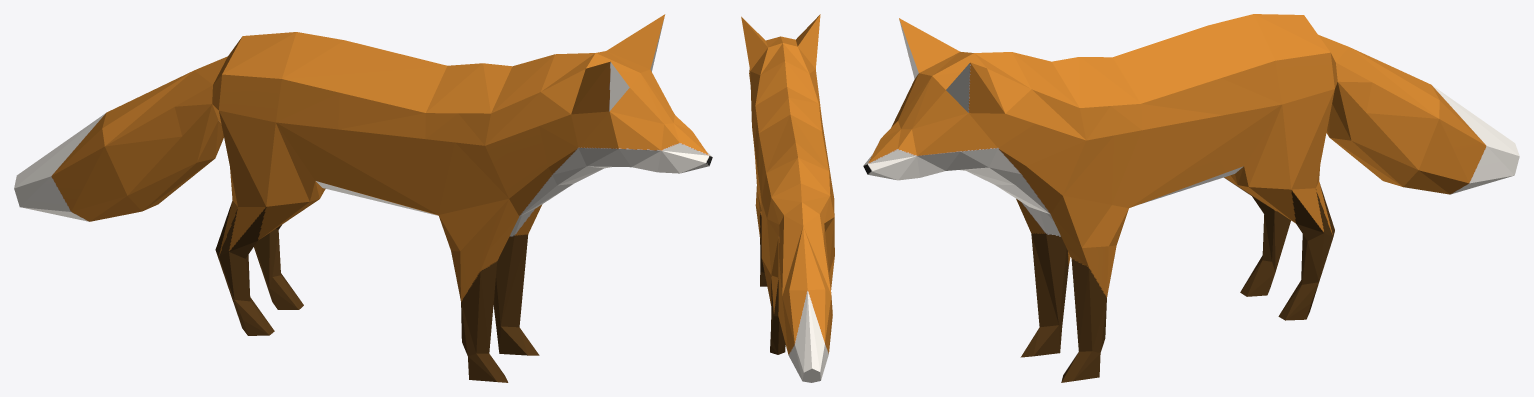
File: fox.fbx
The picture shows the model from 3 angles, left to right: view 1: azimuth 30°, elevation 25°; view 2: azimuth 150°, elevation 25°; view 3: azimuth 270°, elevation 25°; orthographic projection. The views are drawn at different scales.
Parts seen in each view (by area): view 1: fox1; view 2: fox1; view 3: fox1.
Part boxes in pixels (<box>): fox1: <box>14,14,712,382</box>; fox1: <box>741,14,834,382</box>; fox1: <box>863,14,1519,382</box>.
Bounding box in the file's own units: 89.98 × 79.04 × 130.
1 material, 1 textured.
